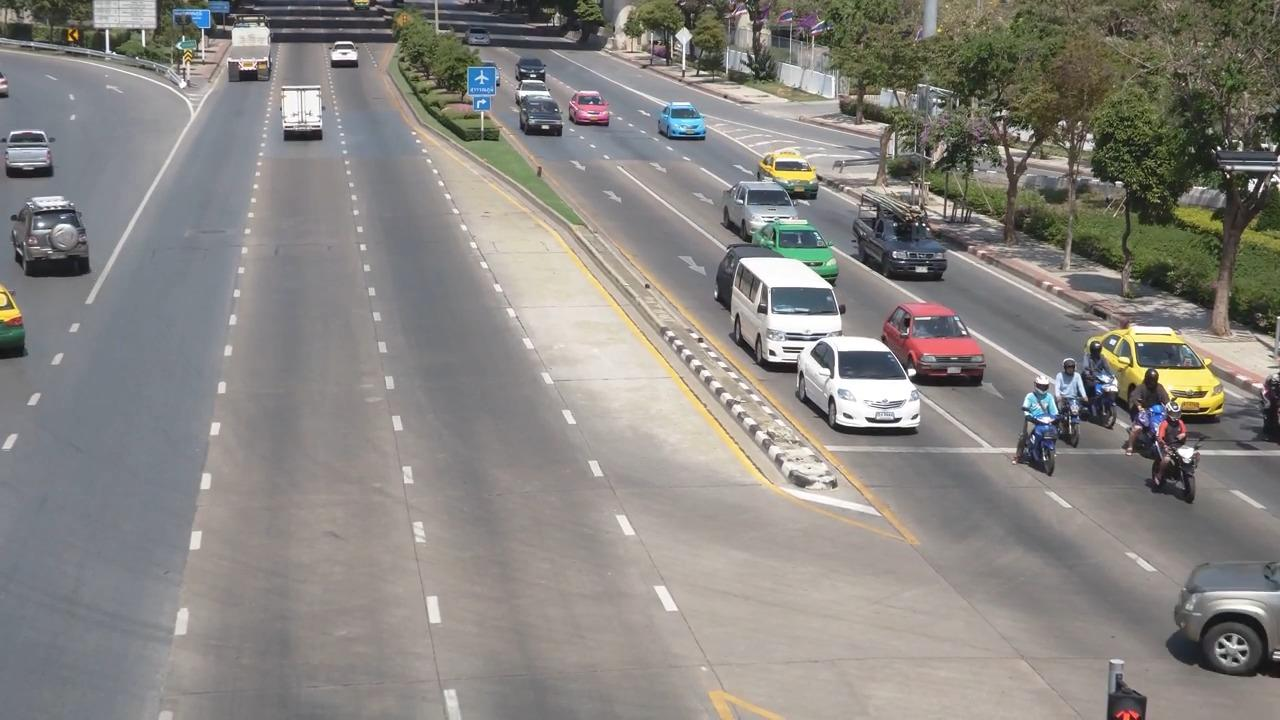CAR: (1166, 516, 1280, 703), (796, 332, 934, 439), (1100, 310, 1227, 421), (733, 252, 846, 372), (845, 183, 955, 286), (880, 287, 990, 386), (7, 192, 108, 285), (717, 170, 806, 242), (755, 217, 842, 279), (270, 77, 333, 154), (745, 146, 825, 200), (1, 129, 59, 194), (509, 88, 566, 145), (652, 97, 708, 145), (322, 35, 378, 80), (561, 89, 616, 134), (513, 54, 555, 86)
HGV_BUS: (215, 17, 281, 93)
MOTOR: (1127, 396, 1202, 498), (1008, 376, 1069, 463), (1076, 339, 1124, 429), (1043, 359, 1089, 449)
